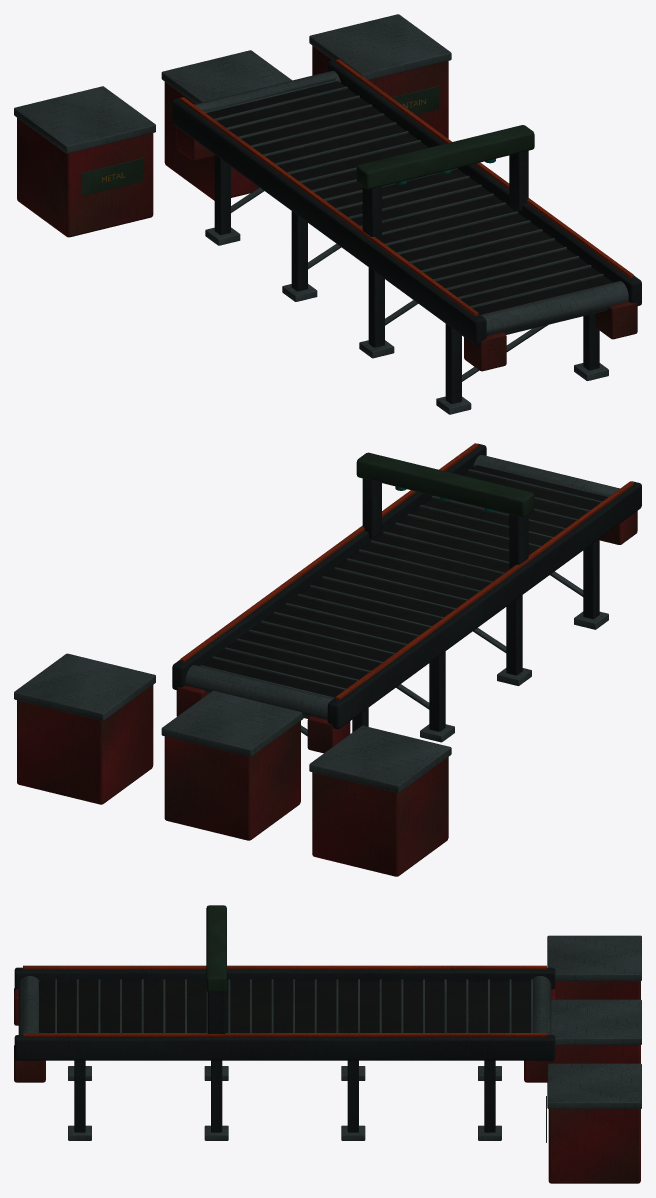
Rendered from SortingConveyor.glb.
3 views of the same model, one above another, from view 1: azimuth 30°, elevation 25°; view 2: azimuth 150°, elevation 25°; view 3: azimuth 270°, elevation 25° (orthographic). The views are drawn at different scales.
Visible parts, largest first — view 1: VIS_WetSteel, VIS_Rubber, VIS_CastIron, VIS_RustSteel, VIS_ForestCeramic, VIS_SafetyOrange; view 2: VIS_RustSteel, VIS_WetSteel, VIS_Rubber, VIS_CastIron, VIS_ForestCeramic, VIS_SafetyOrange; view 3: VIS_CastIron, VIS_Rubber, VIS_WetSteel, VIS_RustSteel, VIS_SafetyOrange, VIS_ForestCeramic.
Part boxes in pixels (x1,y1,x2,y2): VIS_WetSteel: (14,14,628,414); VIS_Rubber: (206,81,612,314); VIS_CastIron: (172,59,641,403); VIS_RustSteel: (17,45,637,371); VIS_ForestCeramic: (81,86,534,196); VIS_SafetyOrange: (180,59,633,316); VIS_RustSteel: (17,511,637,876); VIS_WetSteel: (14,455,619,792); VIS_Rubber: (203,465,607,697); VIS_CastIron: (172,443,641,732); VIS_ForestCeramic: (356,452,534,517); VIS_SafetyOrange: (180,443,633,700); VIS_CastIron: (14,967,555,1132); VIS_Rubber: (39,981,530,1032); VIS_WetSteel: (18,935,641,1140); VIS_RustSteel: (14,981,640,1183); VIS_SafetyOrange: (23,965,546,1036); VIS_ForestCeramic: (206,905,546,1142).
Size of the model in its own units: 3.47 by 1.6 by 5.52.
Materials: 8 (8 with a texture image).
